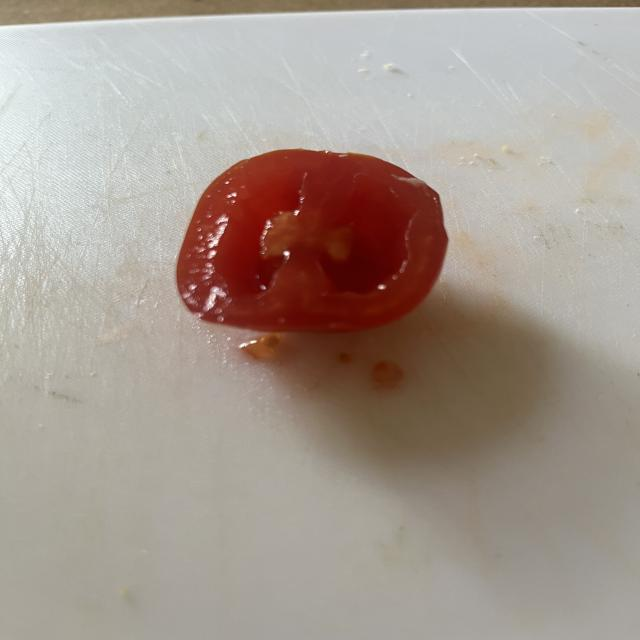sliced_tomato: (177, 150, 447, 332)
